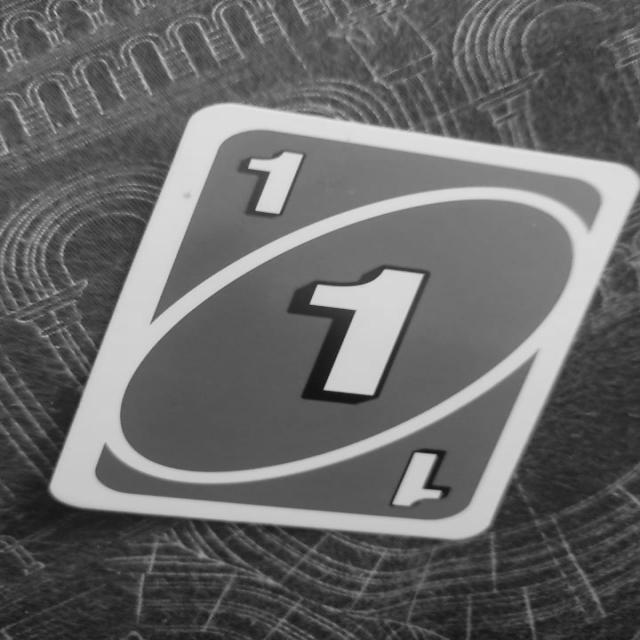card_1: (47, 102, 638, 540)
